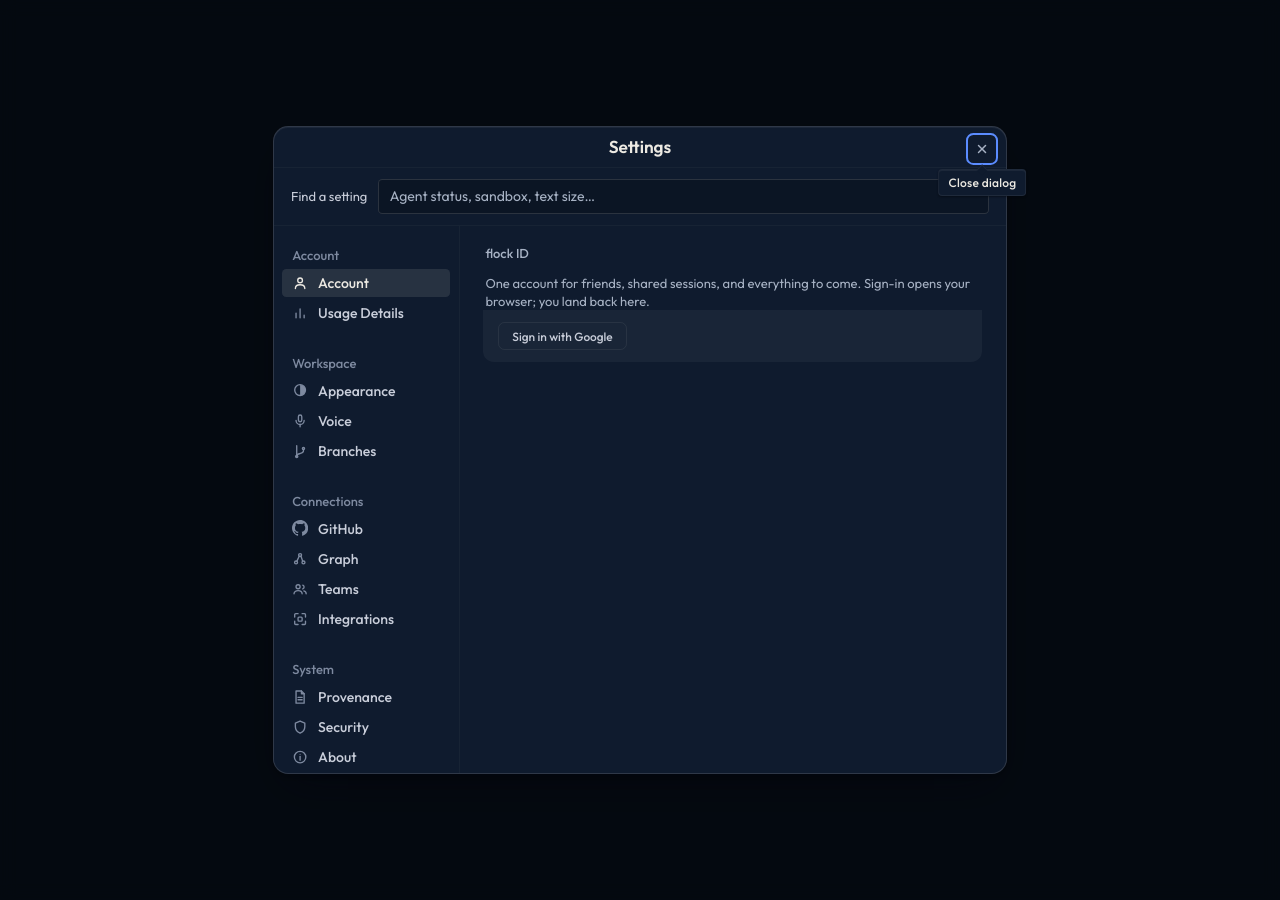
Settings search navigation › retains the previous source and shows a failed save
Click the tab "Voice": (366, 421) [282, 407, 450, 435]
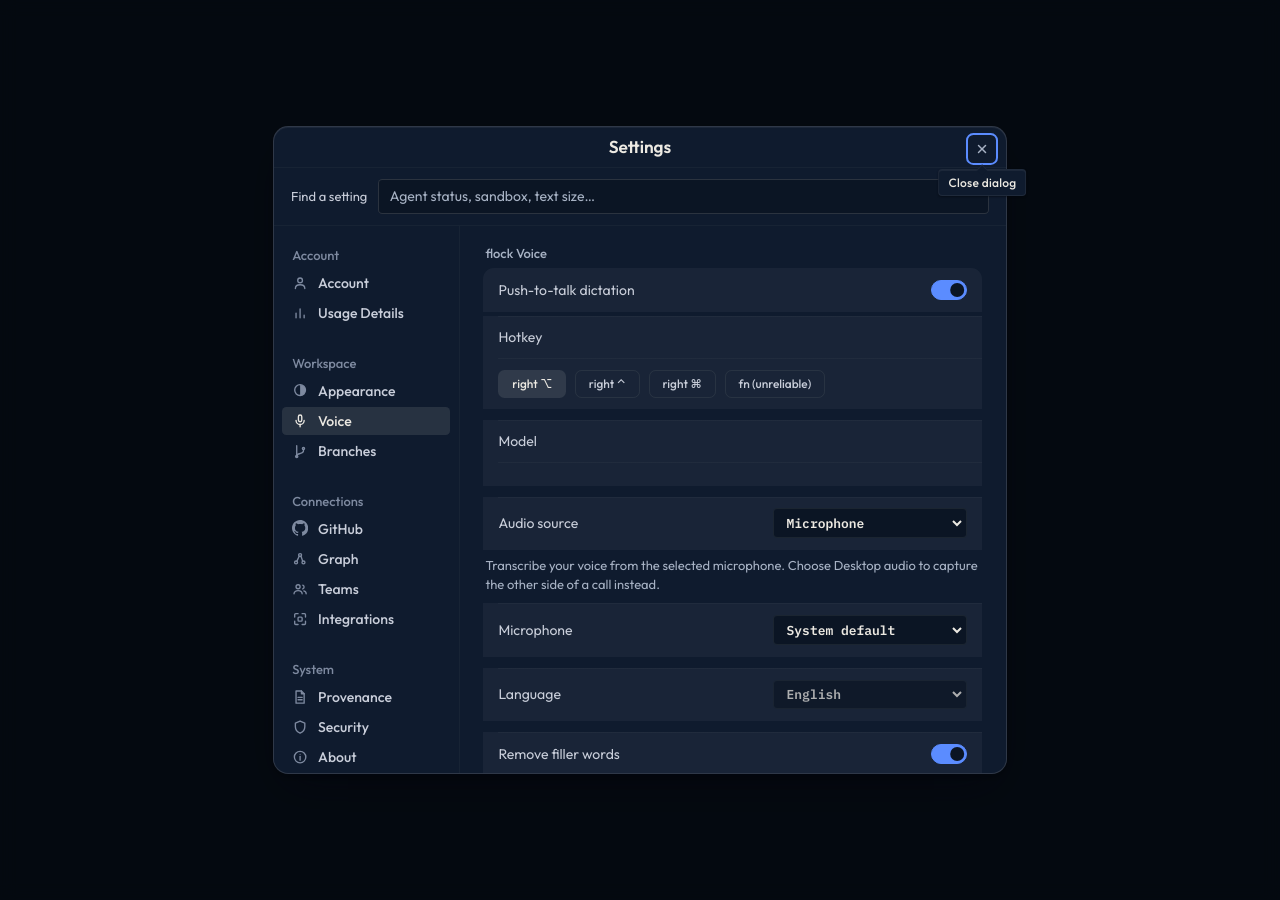
Select "Desktop audio" in the dropdown labelled "Audio source": (870, 523) [773, 508, 967, 538]
(page scrolled)
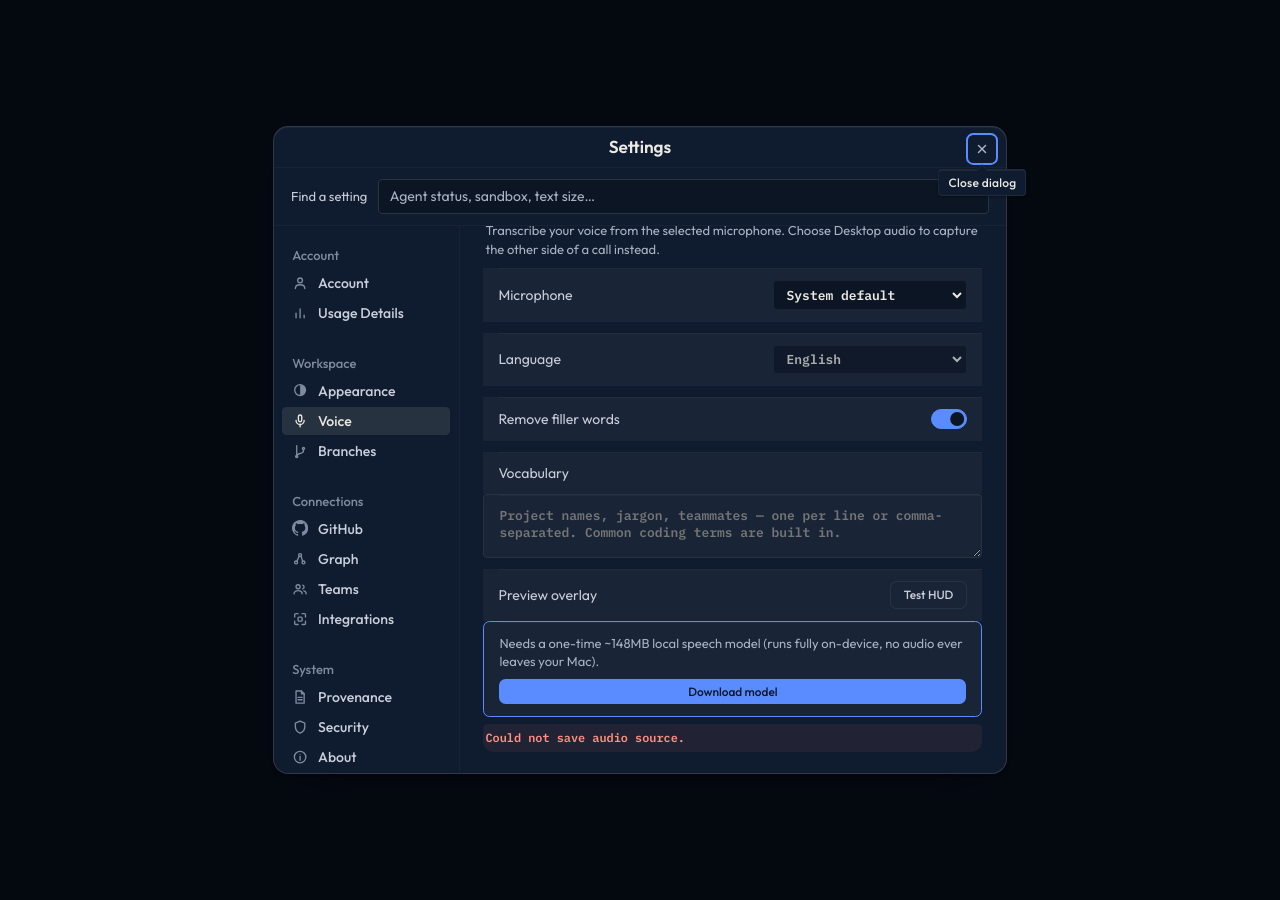
expect the text "Could not save audio source." is shown: met, box [483, 724, 982, 752]
